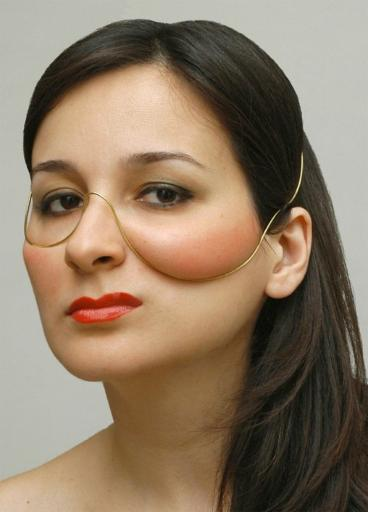left_eye: (135, 185, 196, 214)
left_lip_corner: (134, 296, 148, 315)
right_eye: (39, 194, 83, 221)
right_lip_corner: (63, 307, 75, 326)
